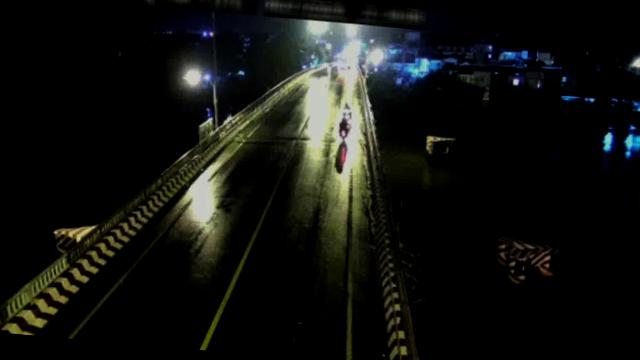Bike: (338, 116, 352, 142)
